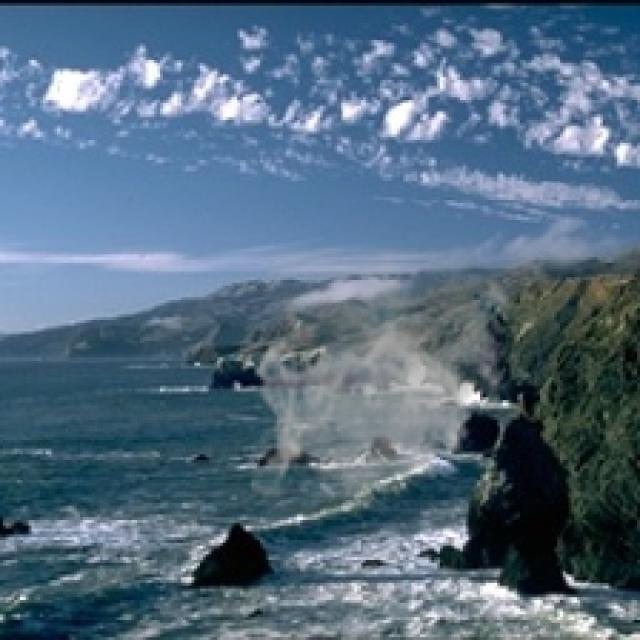Smoke: (251, 248, 520, 512)
